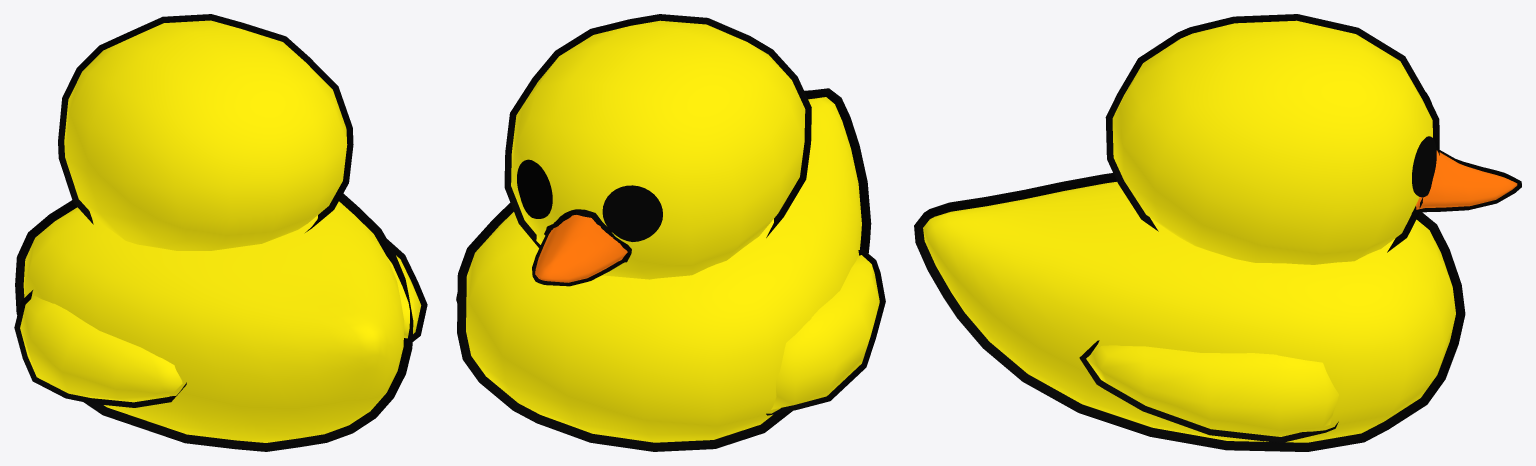
The model's file is DuckyWIP.glb.
3 renders of one model, left to right at view 1: azimuth 30°, elevation 25°; view 2: azimuth 150°, elevation 25°; view 3: azimuth 270°, elevation 25°, orthographic. The views are drawn at different scales.
Parts seen in each view (by area): view 1: Body, Head, Left Wing, Body Border, HeadBorder, Left Wing Border, Right Wing, Right Wing Border; view 2: Body, Head, Left Wing, Body Border, HeadBorder, Beak, Left Eye, Right Eye, Left Wing Border, GPencil, Beak Border; view 3: Body, Head, Right Wing, Body Border, HeadBorder, Beak, Right Wing Border, Right Eye, Beak Border.
Part boxes in pixels (box(x1,y1,x2,y2)): Body: box(23, 201, 404, 442); Head: box(64, 20, 347, 250); Left Wing: box(20, 295, 182, 402); Body Border: box(15, 193, 413, 451); HeadBorder: box(58, 14, 353, 232); Left Wing Border: box(14, 290, 186, 407); Right Wing: box(387, 255, 421, 338); Right Wing Border: box(387, 239, 427, 341); Body: box(466, 97, 861, 442); Head: box(511, 20, 805, 279); Left Wing: box(771, 255, 879, 409); Body Border: box(457, 88, 871, 451); HeadBorder: box(504, 14, 811, 247); Beak: box(535, 215, 627, 282); Left Eye: box(602, 185, 662, 241); Right Eye: box(517, 159, 552, 218); Left Wing Border: box(766, 249, 885, 415); GPencil: box(544, 209, 631, 262); Beak Border: box(532, 232, 624, 286); Body: box(923, 182, 1455, 442); Head: box(1112, 20, 1432, 264); Right Wing: box(1086, 345, 1338, 436); Body Border: box(914, 173, 1465, 451); HeadBorder: box(1105, 14, 1439, 252); Beak: box(1416, 150, 1517, 209); Right Wing Border: box(1079, 340, 1338, 442); Right Eye: box(1412, 136, 1436, 197); Beak Border: box(1411, 148, 1521, 213).
Size of the model in its own units: 1.88 by 1.81 by 2.59.
4 materials, 2 textured.
